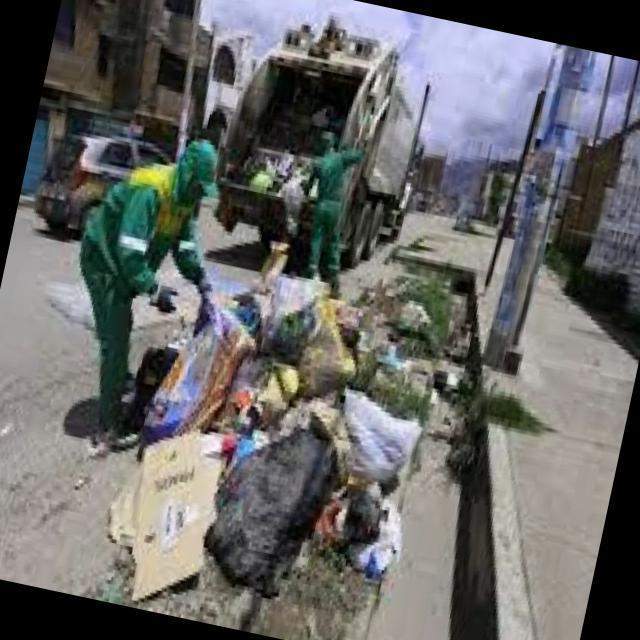garbage: (91, 238, 458, 633)
